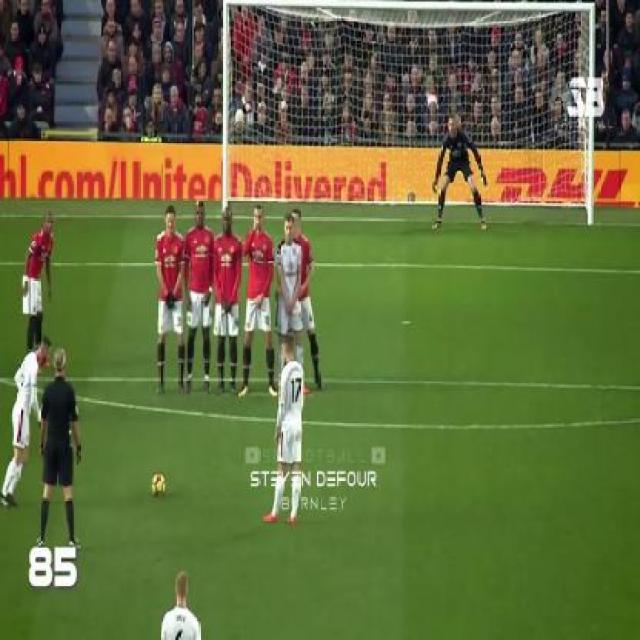ball: (150, 470, 169, 498)
player: (0, 333, 49, 510), (270, 335, 313, 532), (42, 348, 81, 553), (236, 206, 276, 397), (432, 118, 494, 232), (288, 210, 327, 387), (151, 207, 187, 398), (18, 206, 63, 349), (186, 198, 215, 397), (215, 206, 244, 391), (156, 564, 209, 640), (275, 217, 300, 373)
